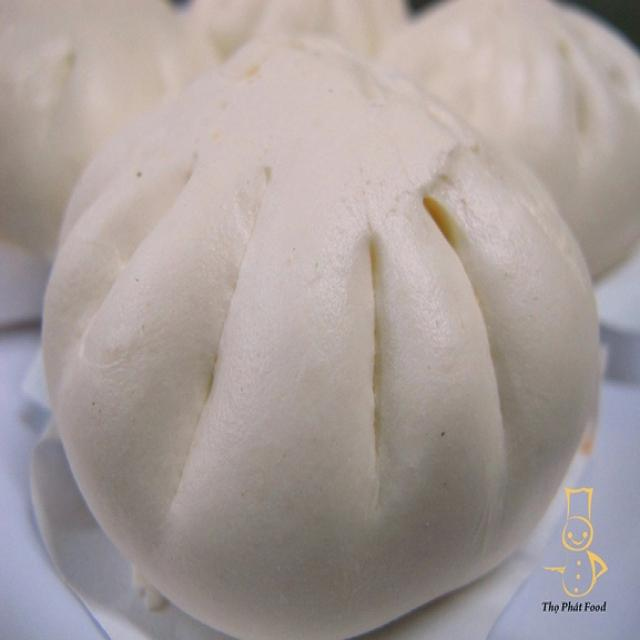带馅早点: (23, 23, 598, 610)
